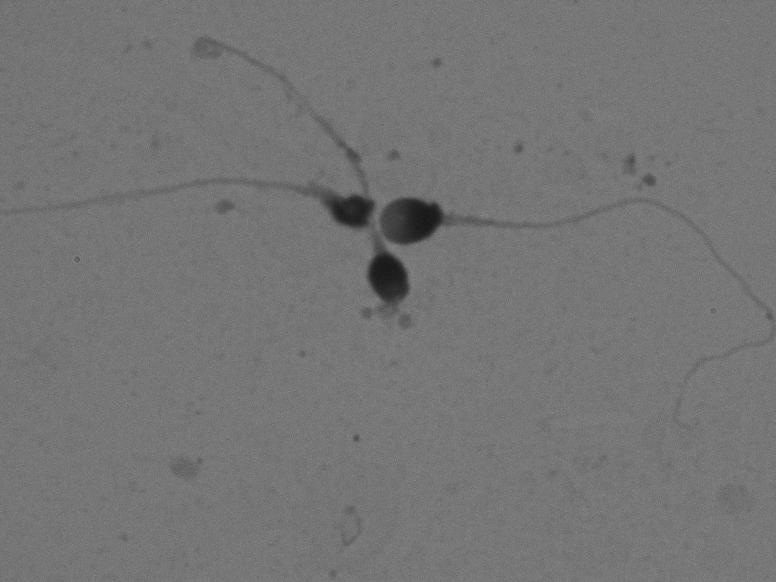Abnormal: (375, 181, 773, 441), (172, 10, 431, 315), (3, 140, 376, 256)
